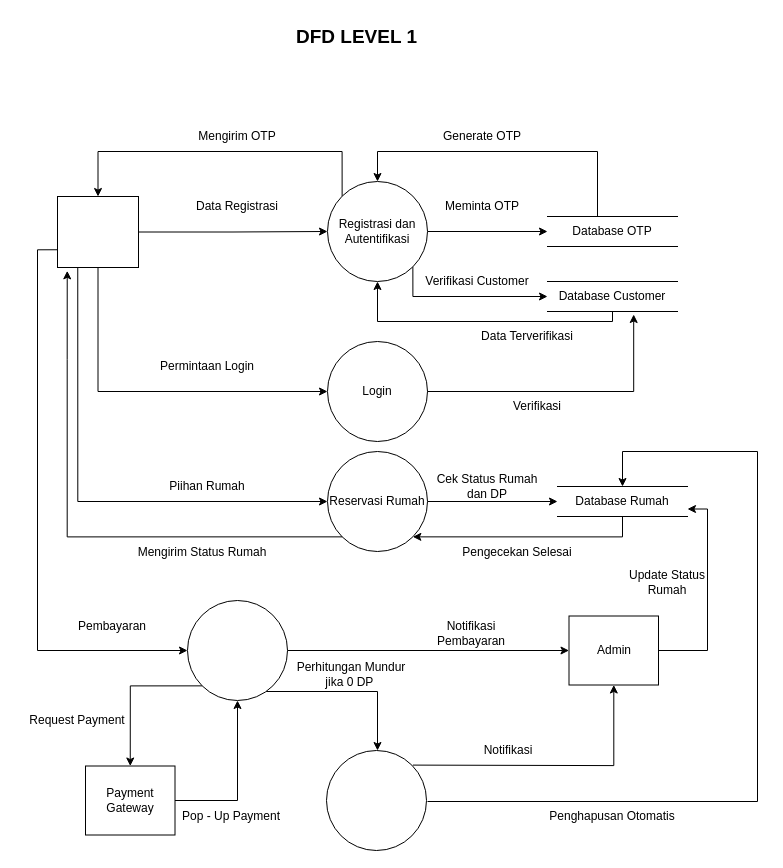
The diagram is 783 pixels wide and 868 high, and some of its shapes have lost their labels. Here are the shapes that lost their labels. From the top down, the centre of each, then its label:
At point 97,232: "Customer".
At point 237,650: "Pembayaran Rumah".
At point 376,800: "Otomatisasi Penghpusan H+7".
